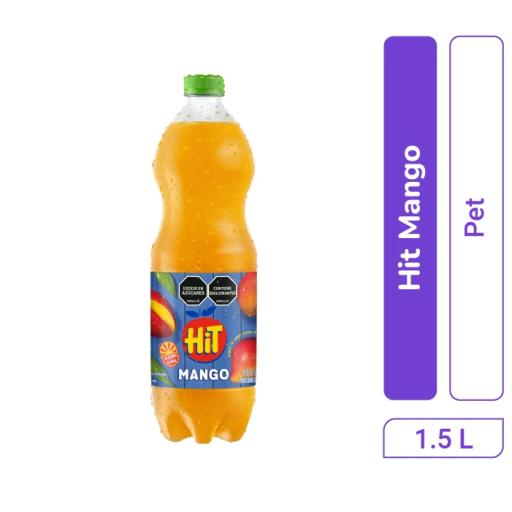JugoHM: (132, 54, 282, 454)
